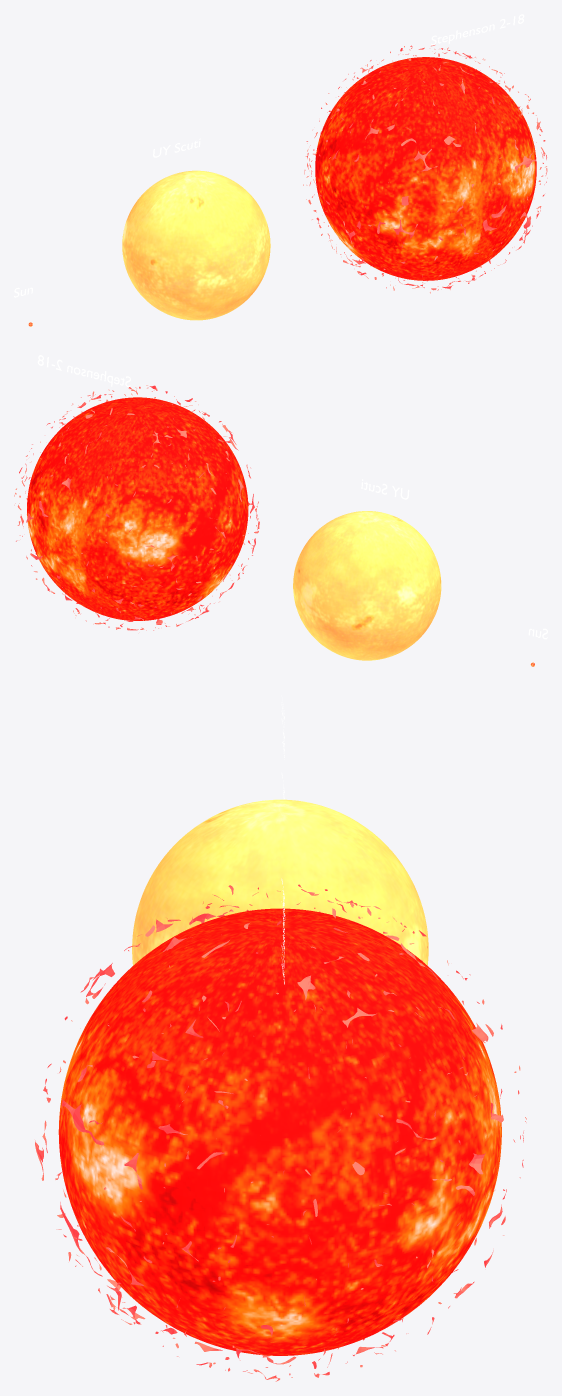
File: stars_comparation_free.glb
3 renders of one model, top to bottom at view 1: azimuth 30°, elevation 25°; view 2: azimuth 150°, elevation 25°; view 3: azimuth 270°, elevation 25°, orthographic. The views are drawn at different scales.
Visible parts, largest first — view 1: Stephenson 2-18.001, Uy Scuti, stephenson effect, TEXT STEPHENSON; view 2: Stephenson 2-18.001, Uy Scuti, stephenson effect, TEXT STEPHENSON; view 3: Stephenson 2-18.001, Uy Scuti, stephenson effect.
Boxes of the visible parts, left/top/right/bottom form: Stephenson 2-18.001: left=315, top=57, right=536, bottom=280; Uy Scuti: left=122, top=170, right=270, bottom=320; stephenson effect: left=303, top=45, right=547, bottom=293; TEXT STEPHENSON: left=431, top=14, right=524, bottom=45; Stephenson 2-18.001: left=27, top=397, right=248, bottom=620; Uy Scuti: left=293, top=511, right=441, bottom=660; stephenson effect: left=14, top=385, right=259, bottom=630; TEXT STEPHENSON: left=37, top=355, right=130, bottom=387; Stephenson 2-18.001: left=58, top=908, right=501, bottom=1355; Uy Scuti: left=132, top=799, right=428, bottom=965; stephenson effect: left=35, top=884, right=526, bottom=1381.
Size of the model in its own units: 215 by 95.8 by 88.25.
